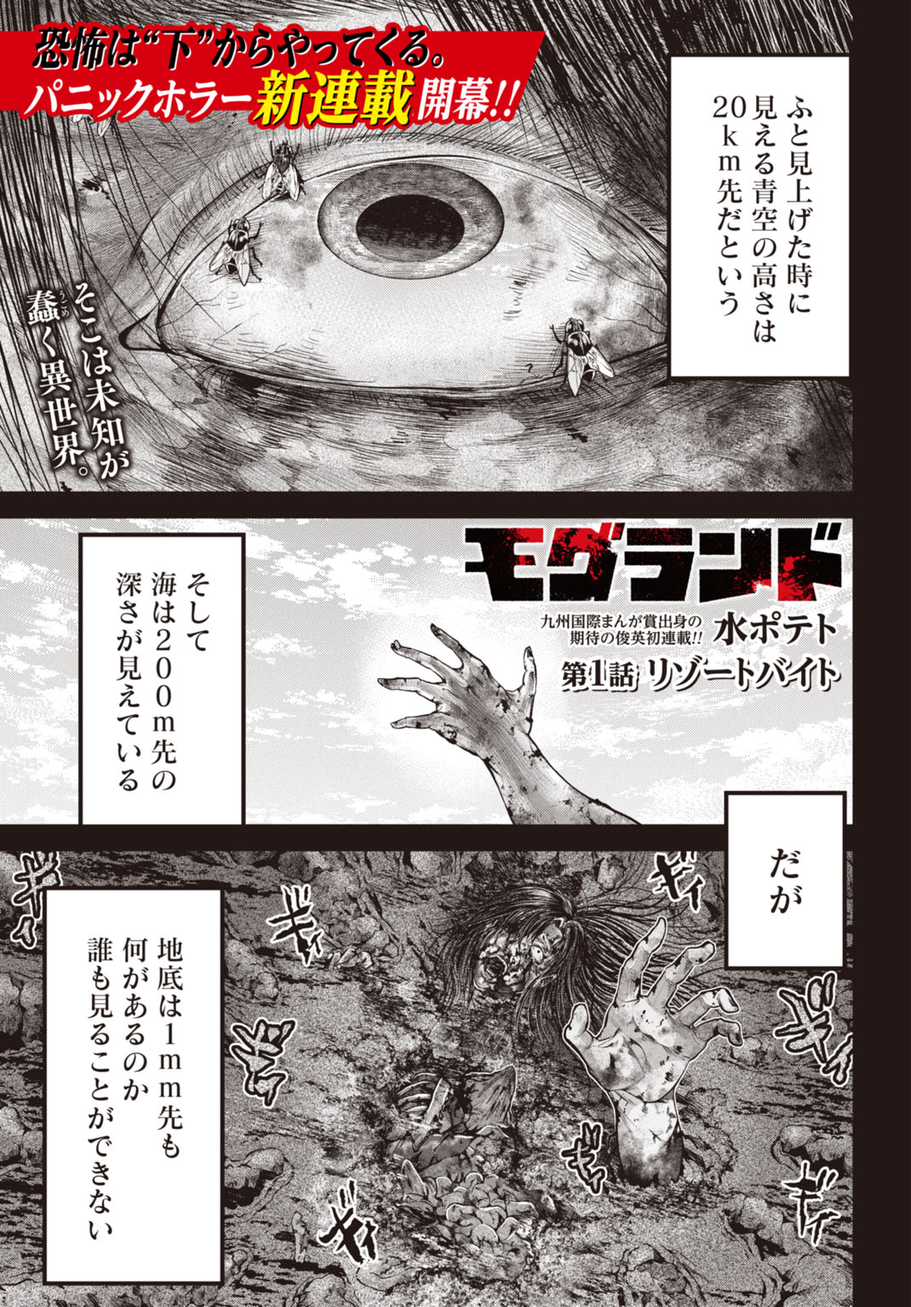bubbles: (39, 882, 229, 1290), (662, 47, 853, 385), (74, 528, 252, 831), (722, 787, 851, 976)
